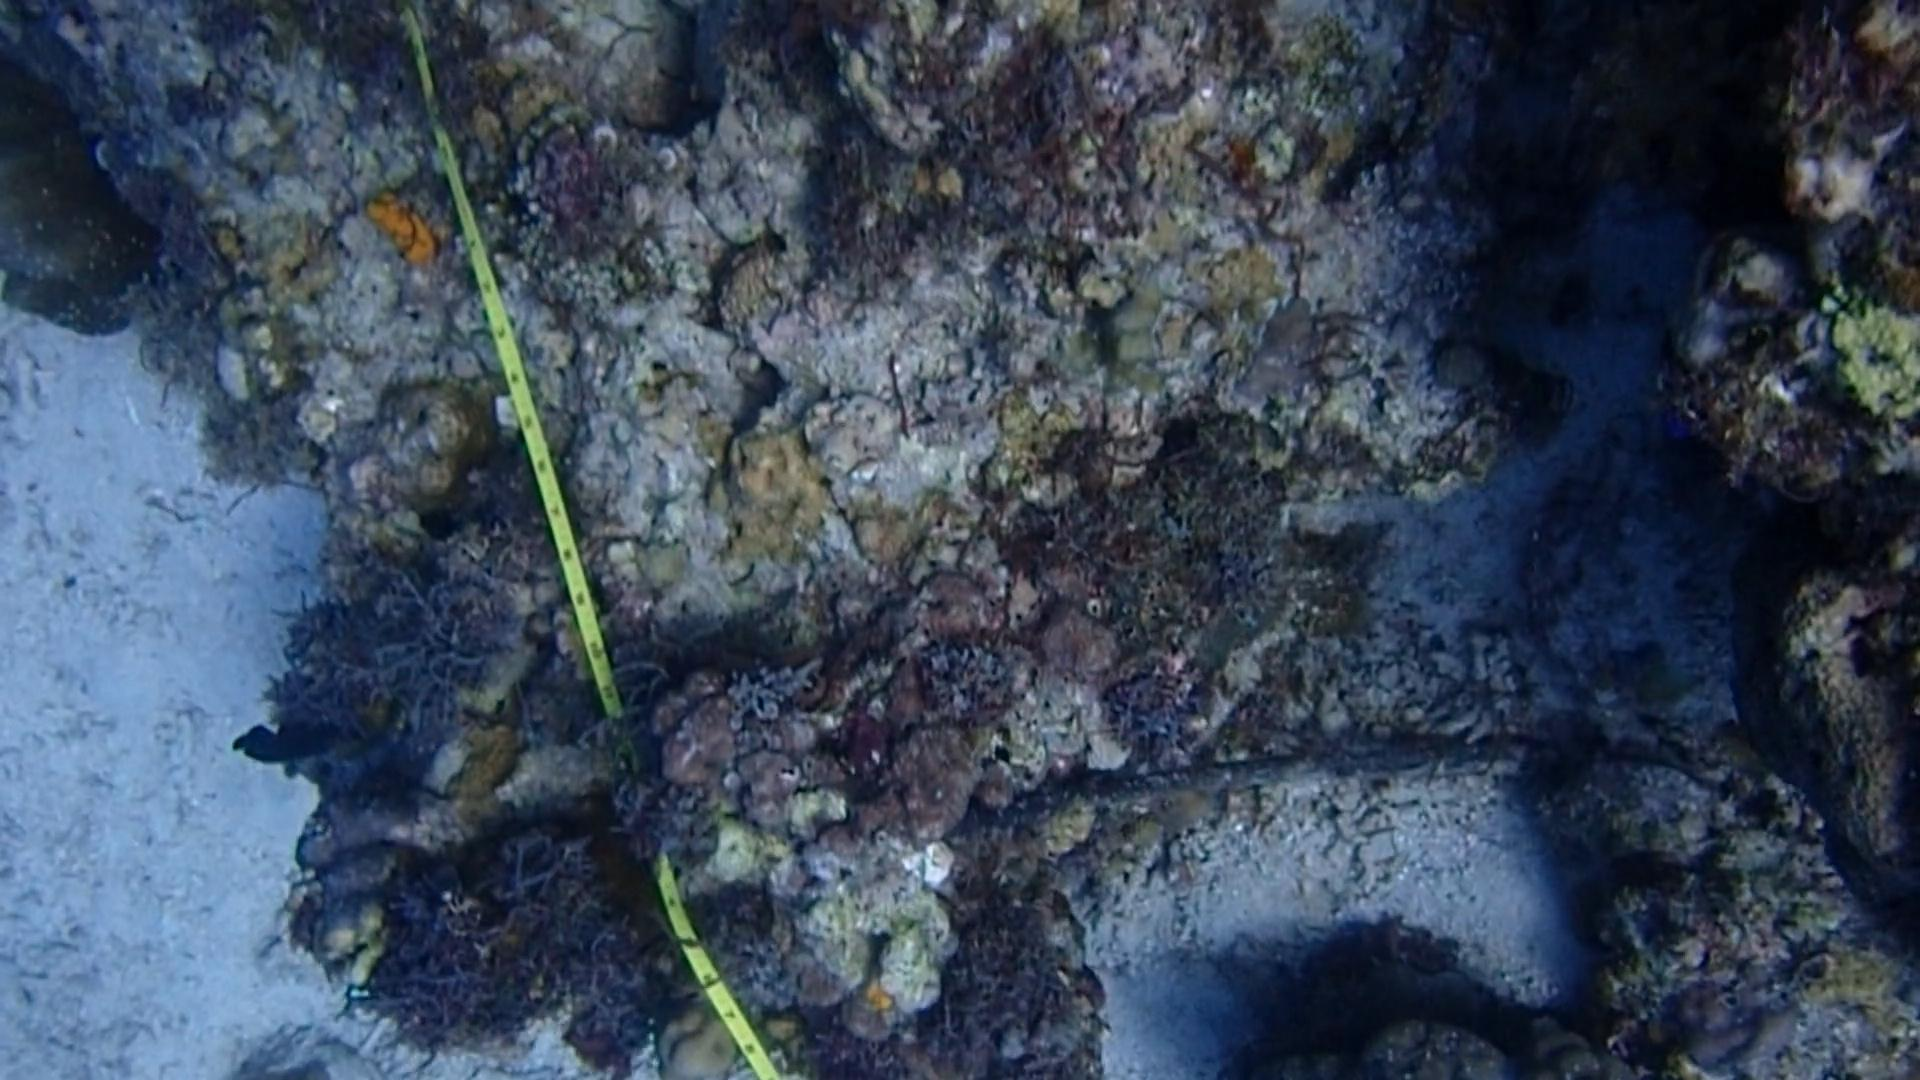Dark Fish: (227, 702, 347, 774)
